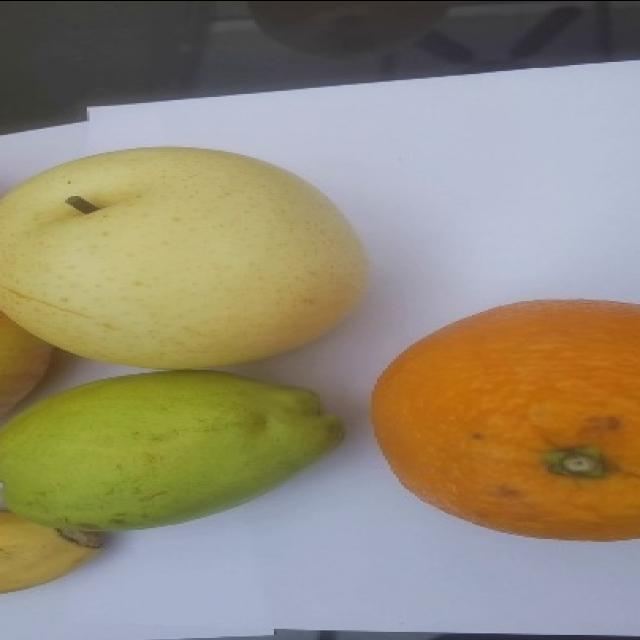Apple: (0, 306, 64, 415)
Banana: (0, 509, 112, 593)
Orange: (372, 293, 640, 543)
